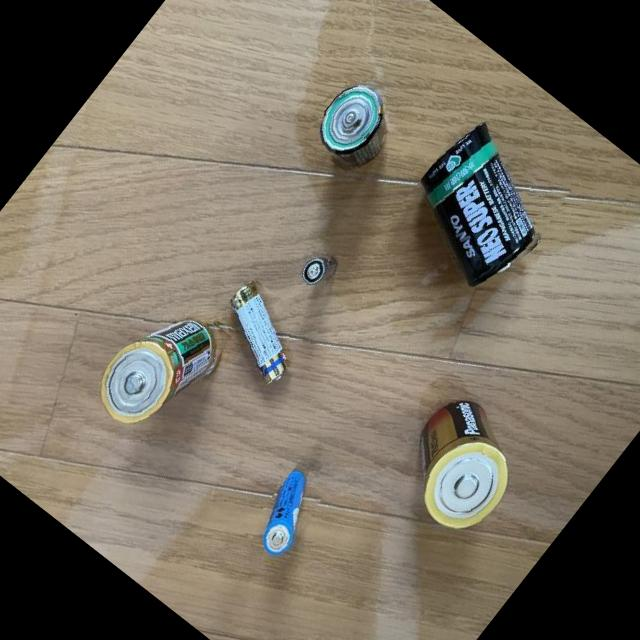Hazard: (385, 111, 580, 307), (376, 379, 544, 549), (84, 286, 238, 449), (202, 274, 324, 392), (302, 63, 420, 183), (240, 462, 336, 566), (288, 237, 348, 298)
